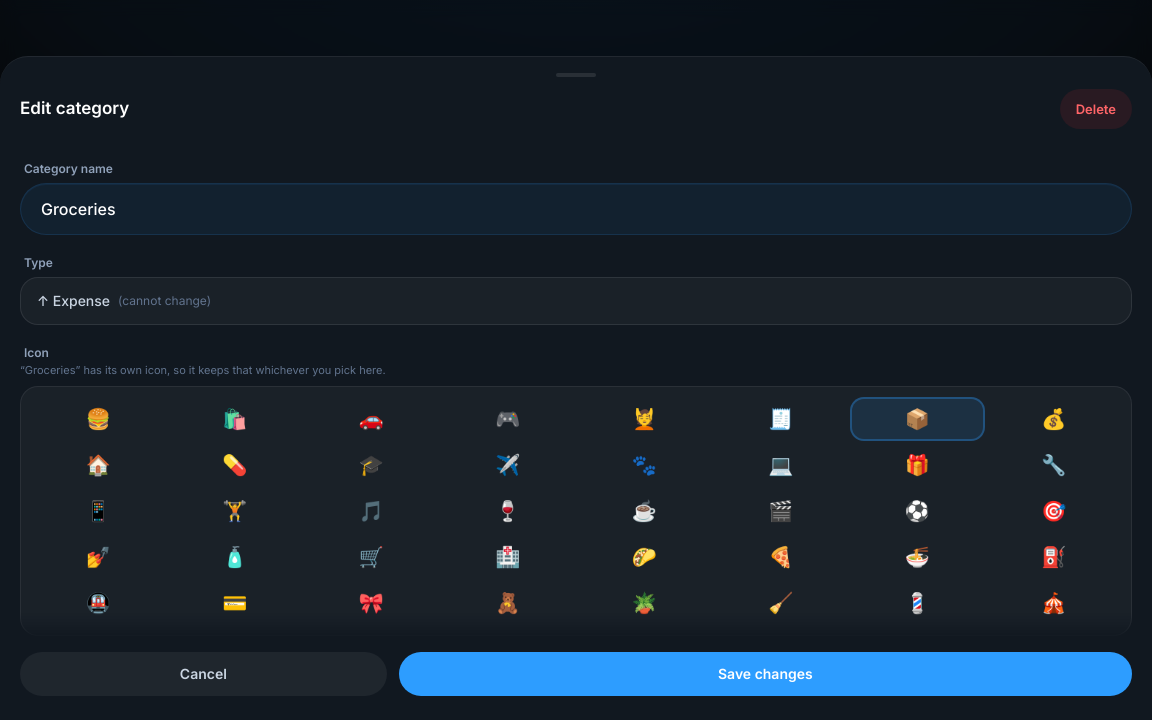
it: a name that is already taken › refuses a rename onto an existing name
Replace the text in the field labelled "Category name" with "food" at [576, 209], box [41,198,1111,220]
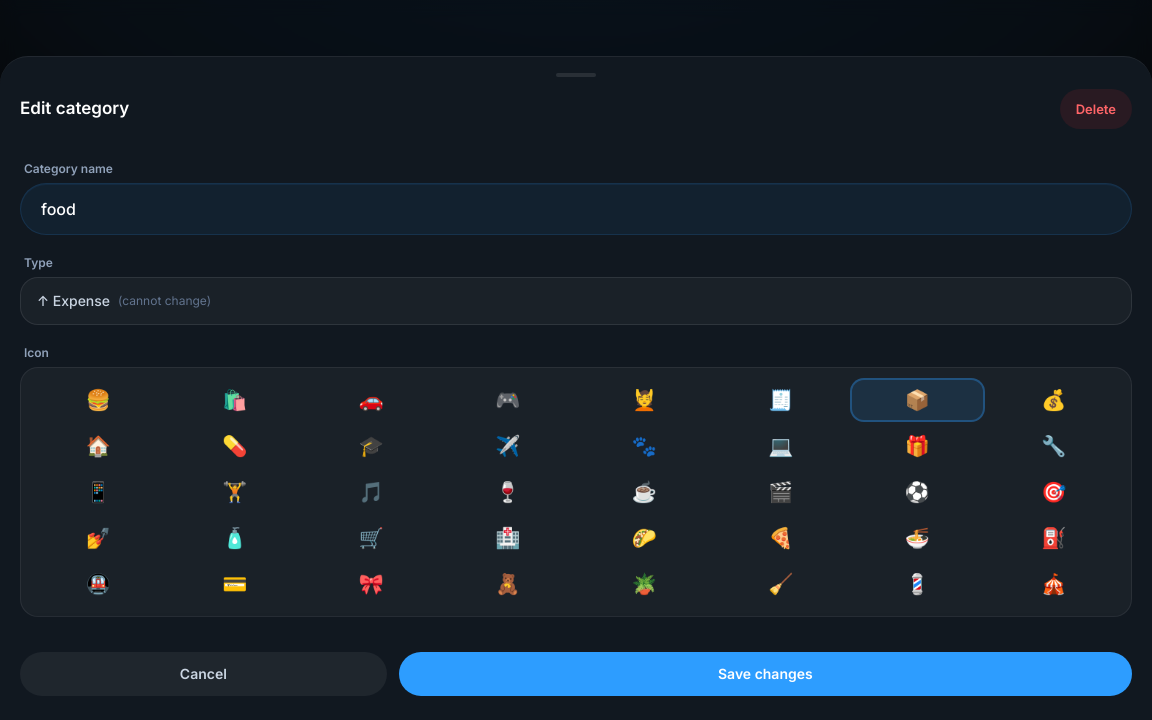
Click the button "Save changes" at [765, 674], box [399,652,1132,696]
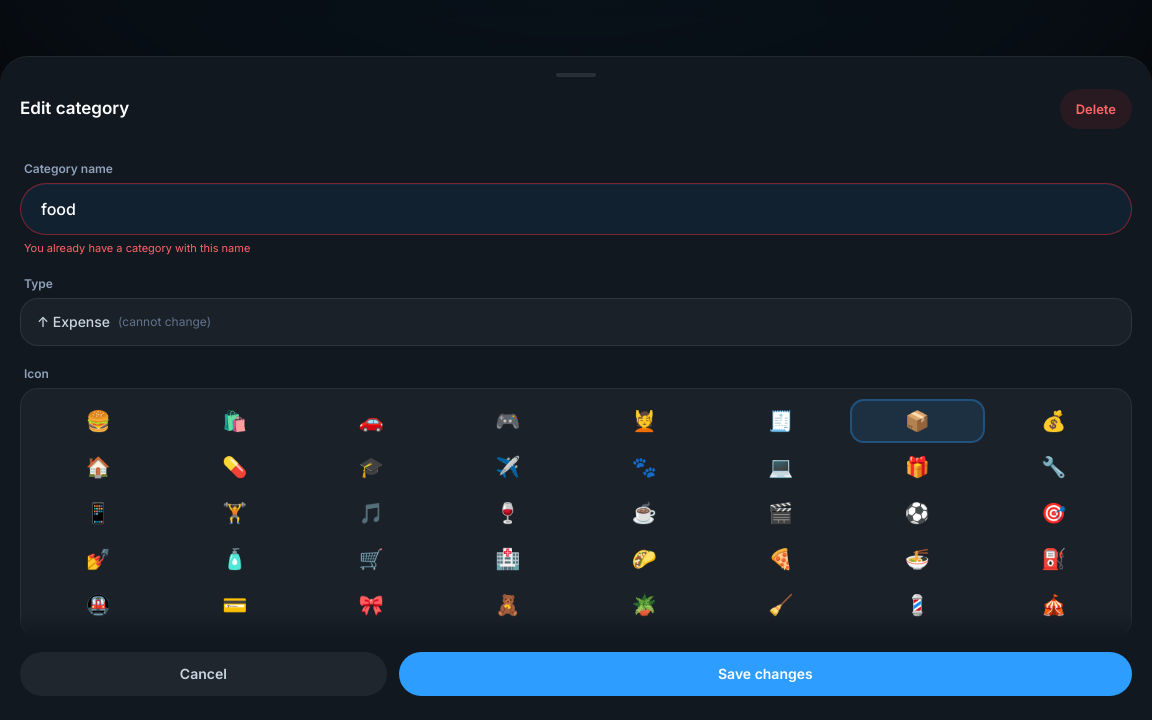
Now the text "You already have a category with this name" is shown, box [24,241,250,255]
